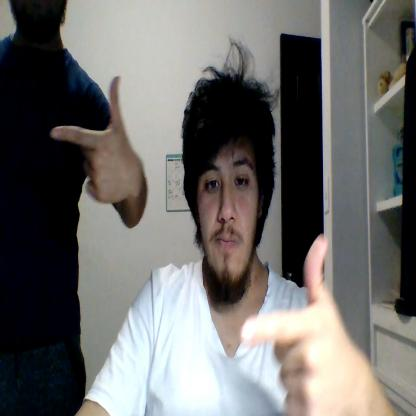G: (240, 234, 347, 415), (51, 73, 127, 203)
